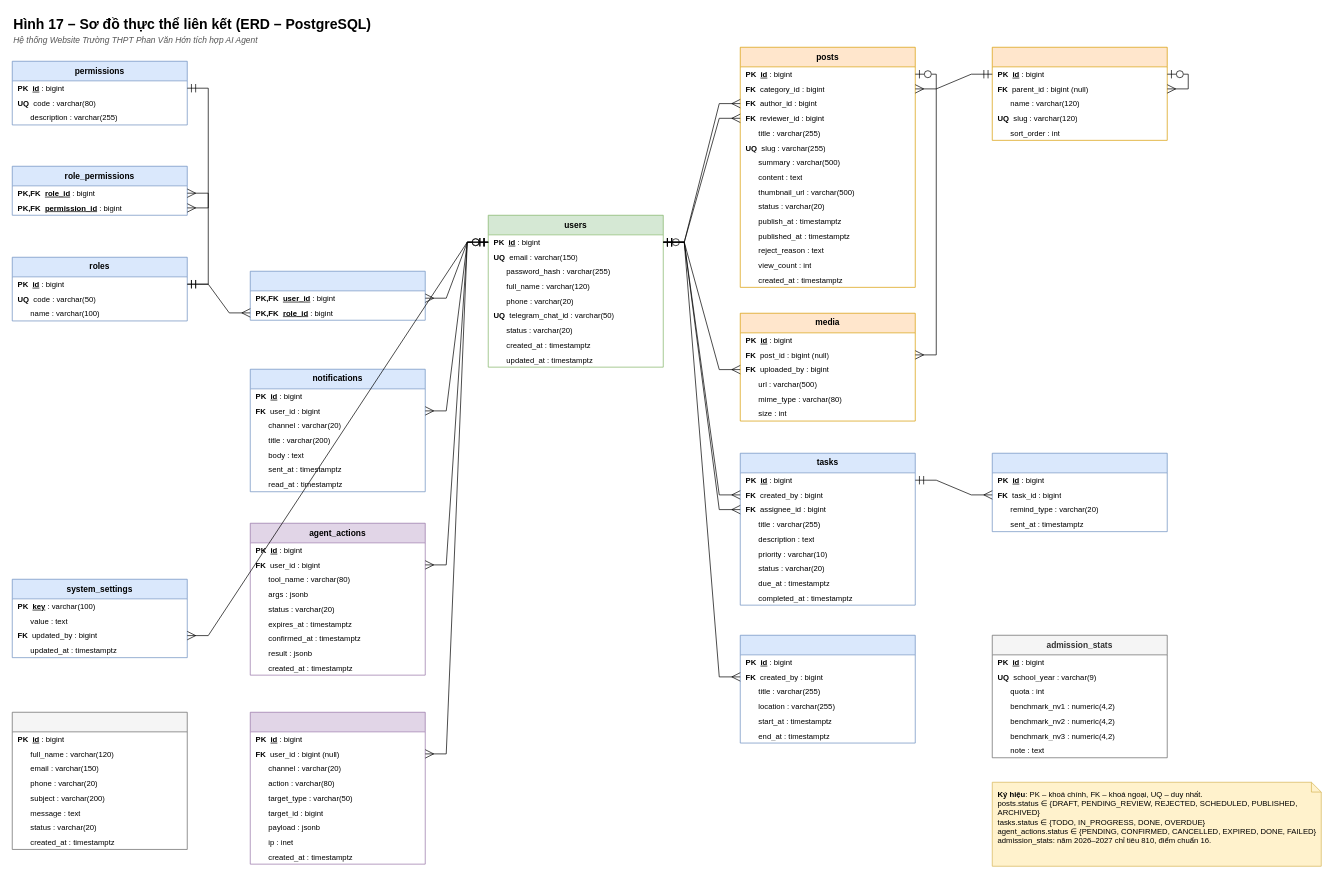
Image size: 1334x879. Some labels were removed from this diagram. The shapes that lost their labels are listed below. From the top down, each one's box as (x1, y1, x2, y2) in pixels, then its label:
(992, 47, 1167, 140): categories
(250, 271, 425, 320): user_roles
(992, 453, 1167, 532): task_reminders
(740, 635, 915, 743): events
(12, 712, 187, 849): contacts
(250, 712, 425, 864): audit_logs
